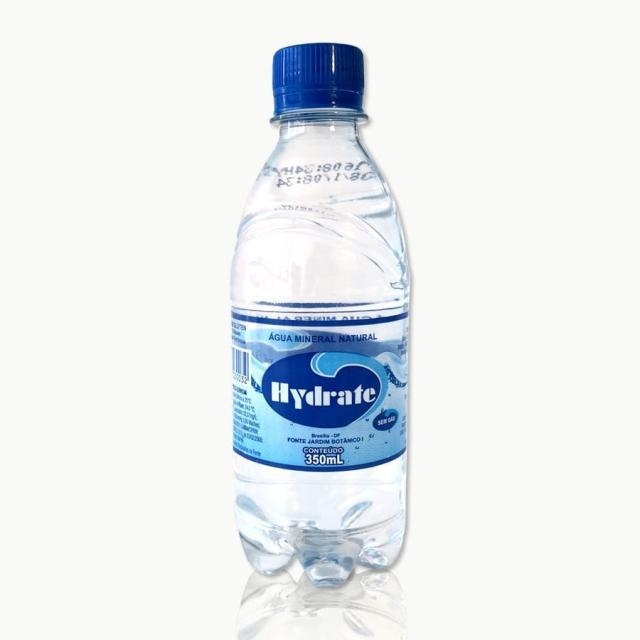bottom: (228, 502, 422, 590)
cap: (268, 34, 375, 132)
